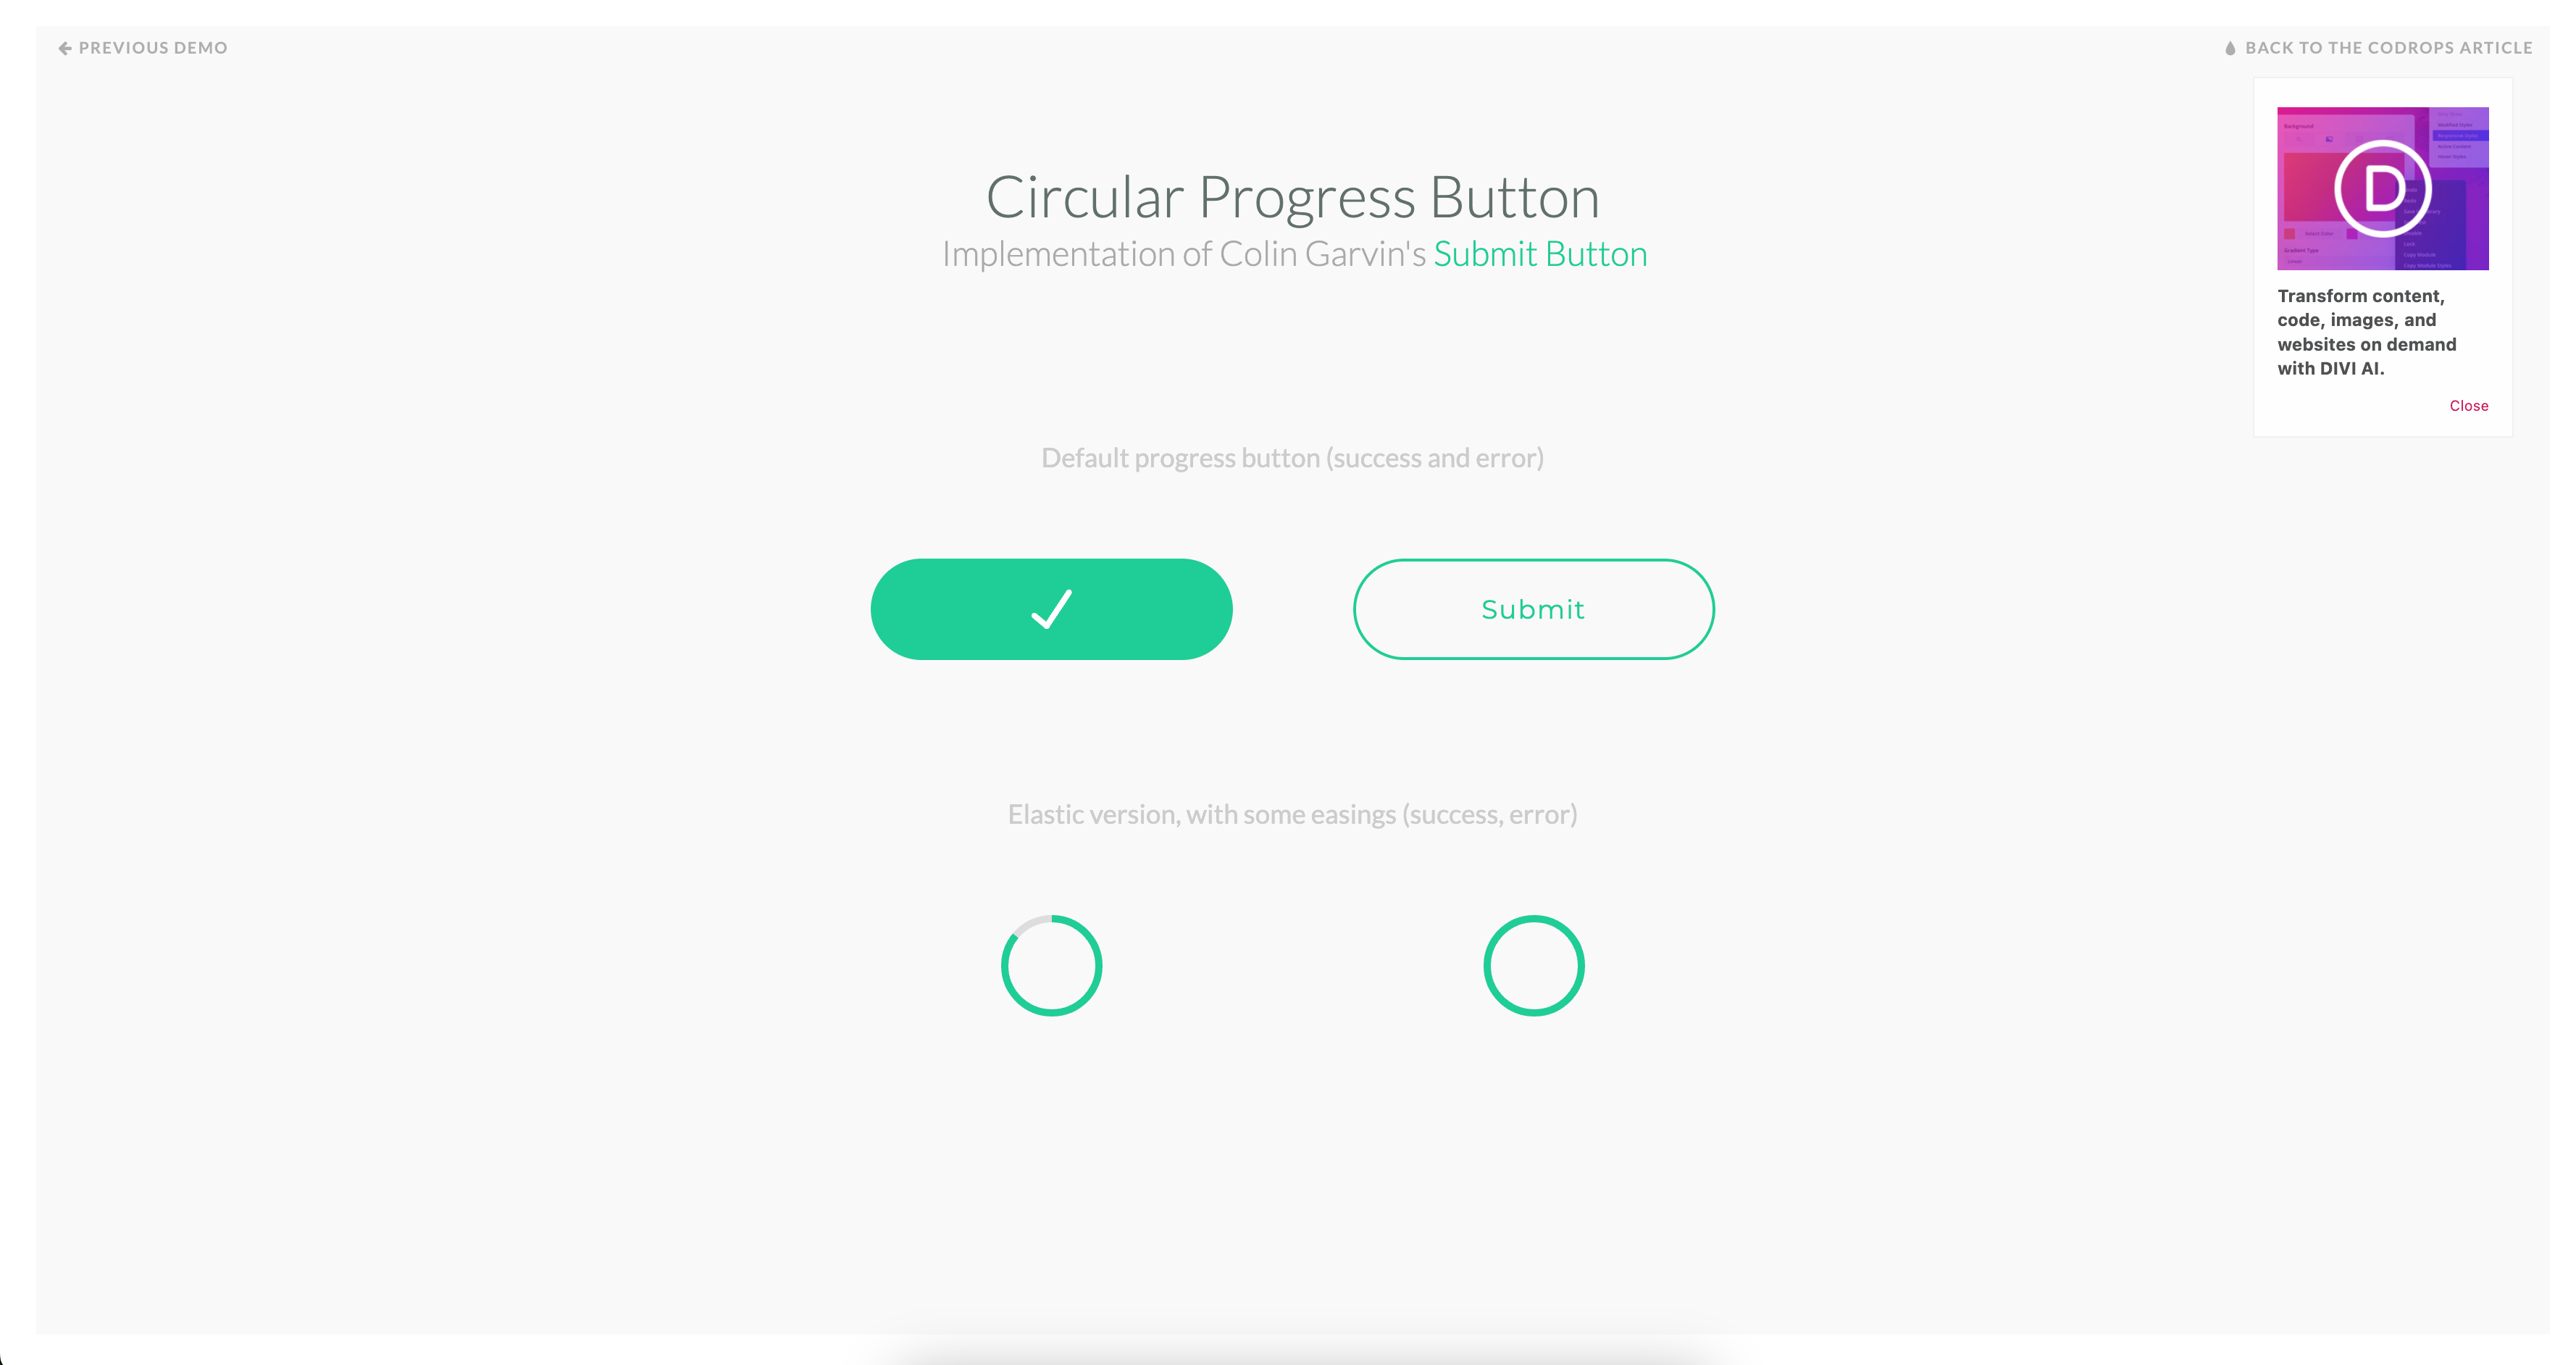button: (869, 557, 1233, 663), (1353, 557, 1716, 661), (2222, 37, 2537, 60), (55, 37, 232, 60)
